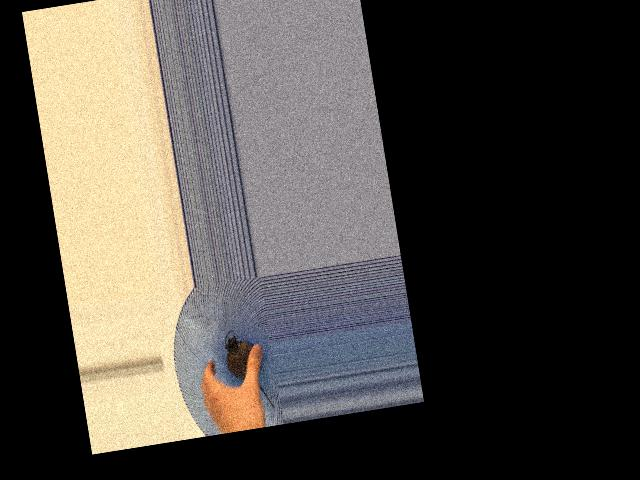beet: (222, 325, 275, 414)
